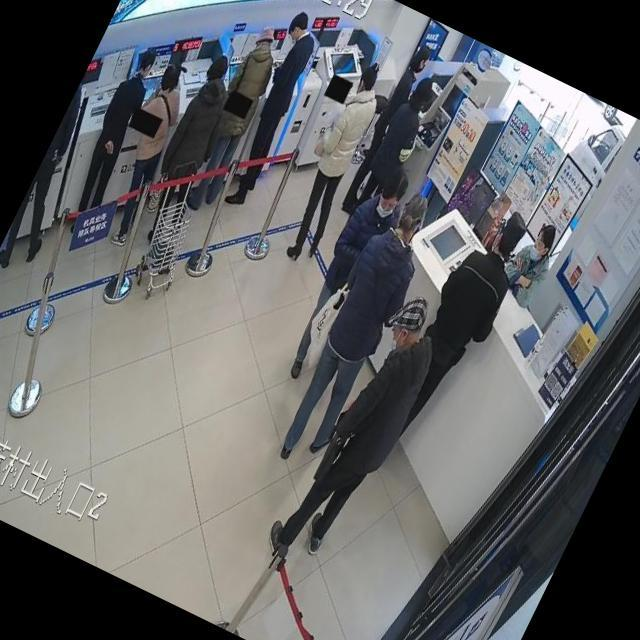person: (256, 281, 458, 593), (260, 181, 450, 478), (371, 196, 543, 462), (272, 158, 418, 392), (264, 56, 401, 269), (207, 6, 335, 210), (0, 64, 120, 277), (126, 52, 251, 248), (174, 18, 298, 211), (174, 18, 296, 214), (83, 58, 207, 248), (0, 79, 116, 279), (57, 43, 171, 223), (333, 41, 434, 216), (346, 71, 444, 224), (492, 213, 568, 309)
